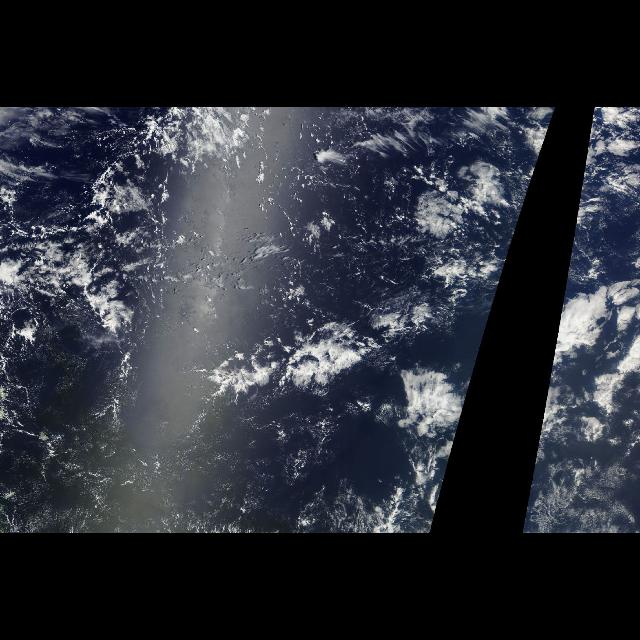Flower: (182, 298, 490, 442), (350, 140, 524, 280)
Gravel: (1, 218, 153, 386), (46, 118, 244, 210)
Sugar: (15, 404, 325, 534)
